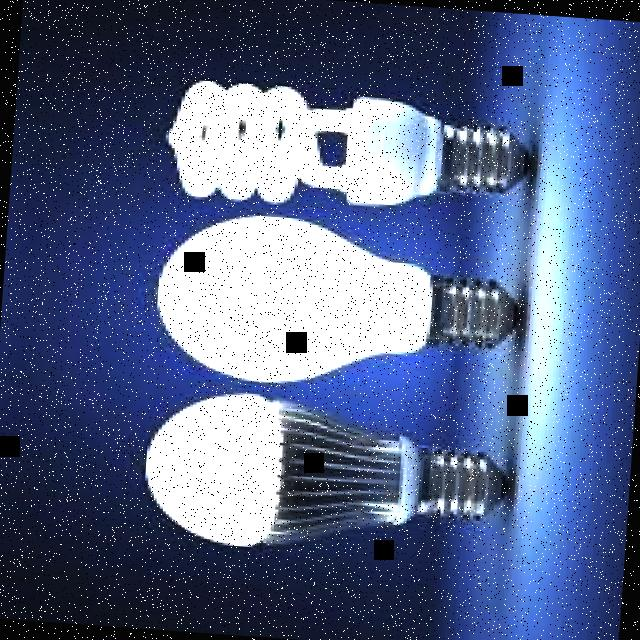light_bulb: (136, 208, 542, 407), (120, 382, 530, 568), (147, 74, 541, 225)
